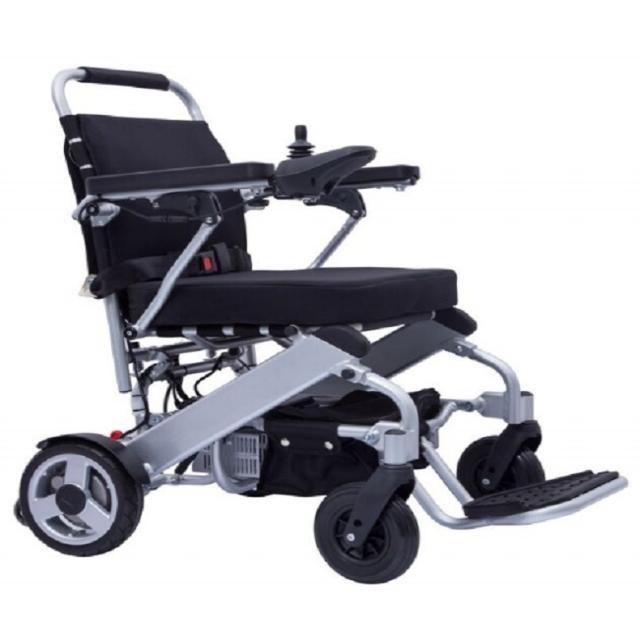wheelchair: (8, 45, 640, 597)
